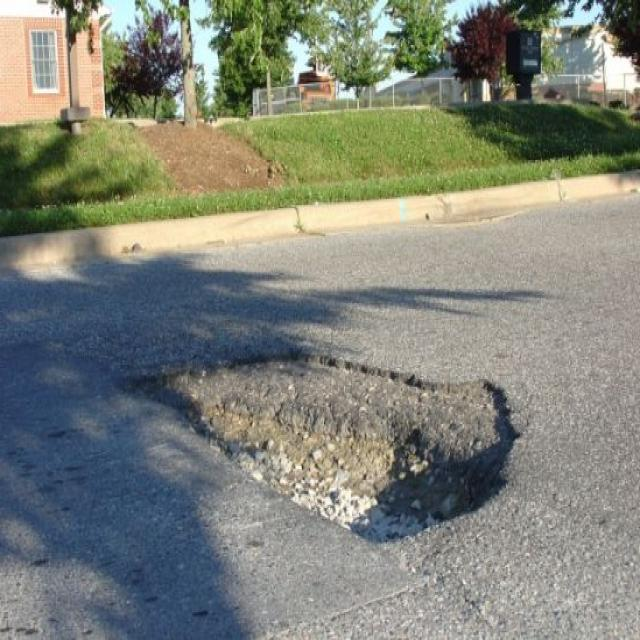pothole: (129, 350, 521, 546)
